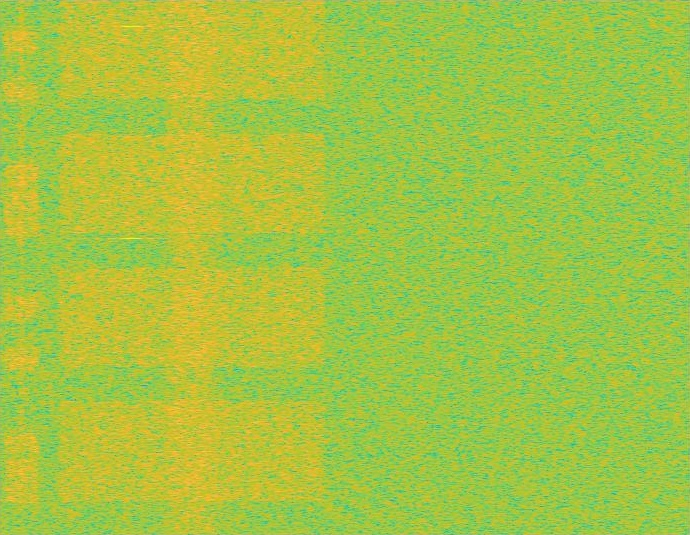5G: (54, 0, 330, 534)
DSSS: (161, 0, 223, 534), (19, 0, 24, 534)
LTE: (4, 0, 39, 534)
Radar: (125, 0, 139, 534)
